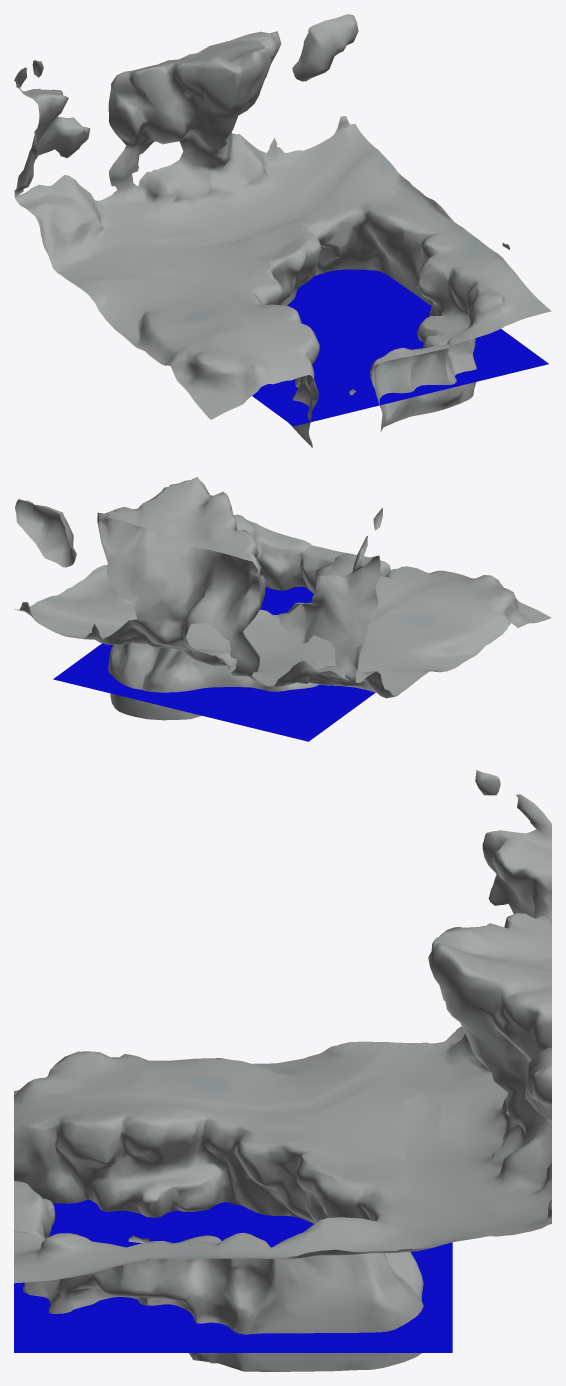
The picture shows the model from 3 angles, top to bottom: view 1: azimuth 30°, elevation 25°; view 2: azimuth 150°, elevation 25°; view 3: azimuth 270°, elevation 25°; orthographic projection. The views are drawn at different scales.
Visible parts, largest first — view 1: G:\FFXIV-MapTools\exports\l1f1\bg\ffxiv\lak_l1\fld\l1f1\bgpl (×16); view 2: G:\FFXIV-MapTools\exports\l1f1\bg\ffxiv\lak_l1\fld\l1f1\bgpl (×15); view 3: G:\FFXIV-MapTools\exports\l1f1\bg\ffxiv\lak_l1\fld\l1f1\bgpl (×15).
Part boxes in pixels (bbox=[...]): G:\FFXIV-MapTools\exports\l1f1\bg\ffxiv\lak_l1\fld\l1f1\bgpl (×16): bbox=[14, 14, 551, 447]; G:\FFXIV-MapTools\exports\l1f1\bg\ffxiv\lak_l1\fld\l1f1\bgpl (×15): bbox=[14, 477, 551, 741]; G:\FFXIV-MapTools\exports\l1f1\bg\ffxiv\lak_l1\fld\l1f1\bgpl (×15): bbox=[14, 770, 551, 1371].
Bounding box in the file's own units: 128 × 103 × 128.
